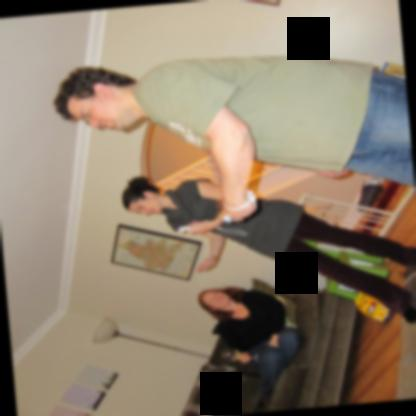backpack: (355, 177, 383, 212)
